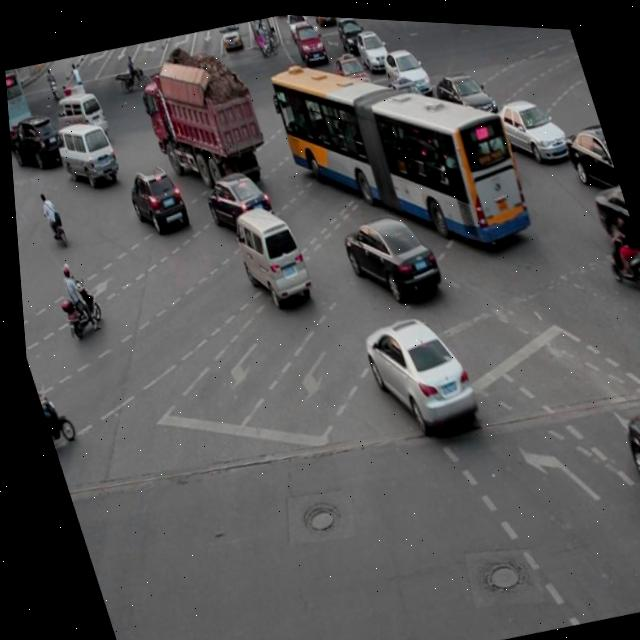bus: (134, 56, 272, 199)
car: (350, 300, 476, 438), (332, 200, 442, 307), (486, 82, 569, 167), (195, 161, 275, 242), (610, 390, 640, 573), (584, 175, 640, 272), (556, 113, 620, 197), (120, 160, 188, 237), (448, 118, 517, 192), (427, 57, 498, 128), (379, 66, 442, 133), (6, 110, 68, 175), (378, 39, 433, 99), (328, 45, 375, 102)
truck: (222, 196, 311, 309), (47, 112, 122, 194), (47, 85, 110, 149)
van: (261, 17, 537, 281)
